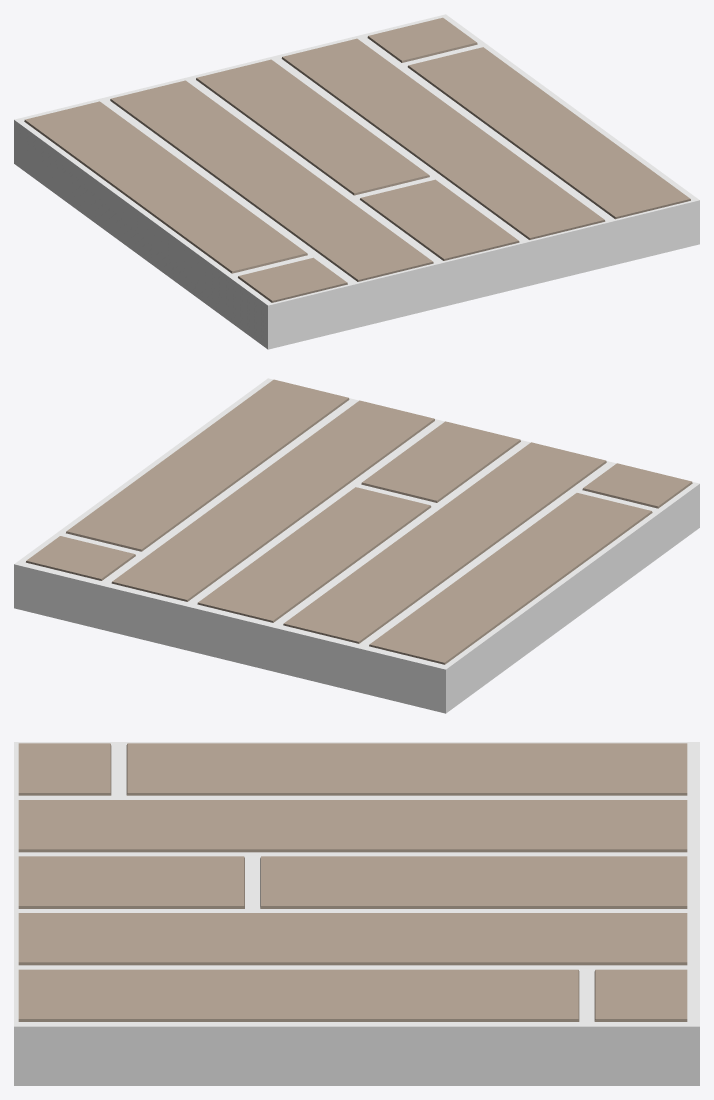
The model's file is modular_village_wood_floor_4.glb.
The picture shows the model from 3 angles, top to bottom: view 1: azimuth 30°, elevation 25°; view 2: azimuth 150°, elevation 25°; view 3: azimuth 270°, elevation 25°; orthographic projection. The views are drawn at different scales.
Parts seen in each view (by area): view 1: object1, Cube; view 2: object1, Cube; view 3: object1, Cube.
Part boxes in pixels (x1=…): object1: x1=24, y1=17, x2=690, y2=302; Cube: x1=14, y1=14, x2=699, y2=349; object1: x1=26, y1=379, x2=692, y2=664; Cube: x1=14, y1=378, x2=699, y2=713; object1: x1=18, y1=743, x2=687, y2=1021; Cube: x1=14, y1=742, x2=699, y2=1085.
Size of the model in its own units: 1.01 by 0.1024 by 1.03.
